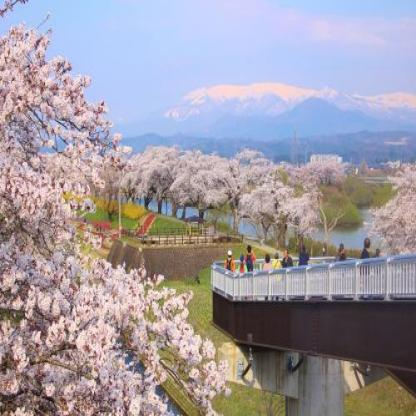Someiyoshino: (1, 5, 239, 413), (59, 146, 350, 236), (367, 162, 415, 250)
